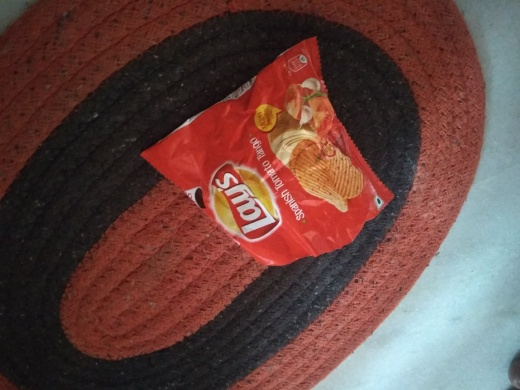lays: (133, 39, 409, 275)
